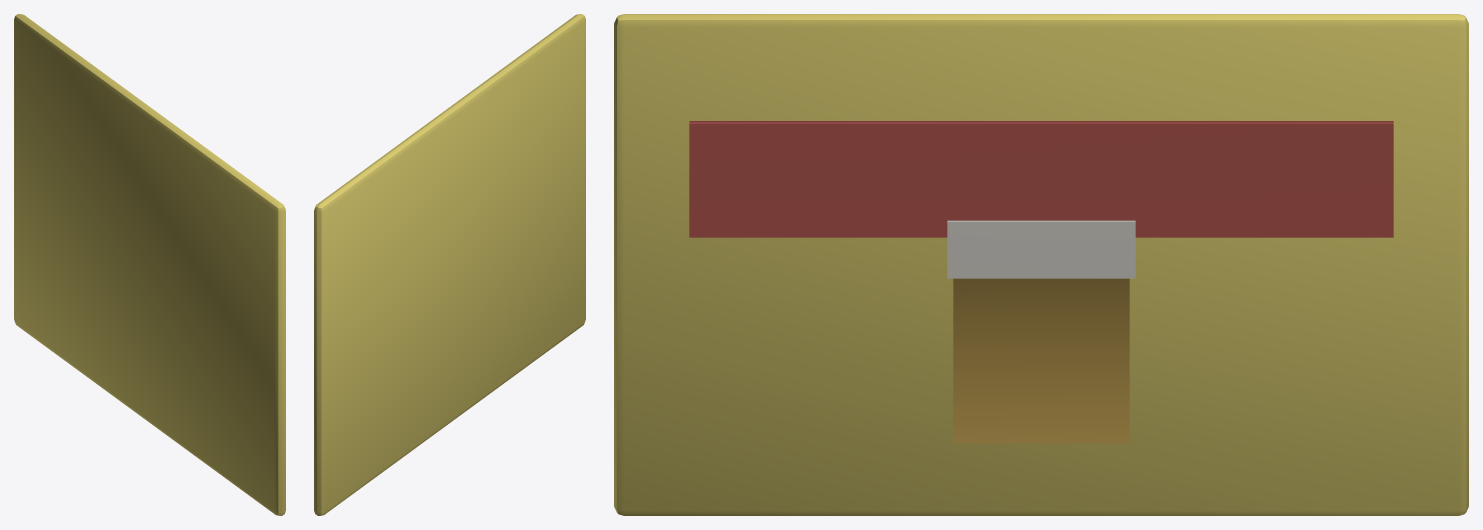
Rendered from tinsign.glb.
The picture shows the model from 3 angles, left to right: view 1: azimuth 30°, elevation 25°; view 2: azimuth 150°, elevation 25°; view 3: azimuth 270°, elevation 25°; orthographic projection. The views are drawn at different scales.
Parts seen in each view (by area): view 1: boat_tin; view 2: boat_tin; view 3: boat_tin, boat_paint_red, boat_beer, boat_foam.
Part boxes in pixels (x1,y1,x2,y2): boat_tin: (14, 14, 285, 515); boat_tin: (314, 14, 585, 515); boat_tin: (614, 14, 1468, 515); boat_paint_red: (689, 121, 1393, 237); boat_beer: (953, 278, 1129, 443); boat_foam: (947, 220, 1135, 278).
Bounding box in the file's own units: 0.023 × 0.44 × 0.68.
